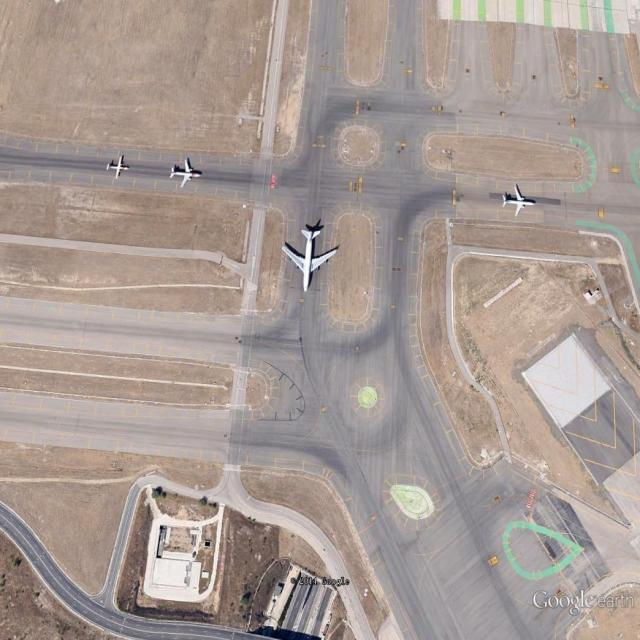aircraft: (281, 224, 341, 299), (501, 183, 536, 221), (170, 158, 202, 190), (105, 154, 131, 183)
